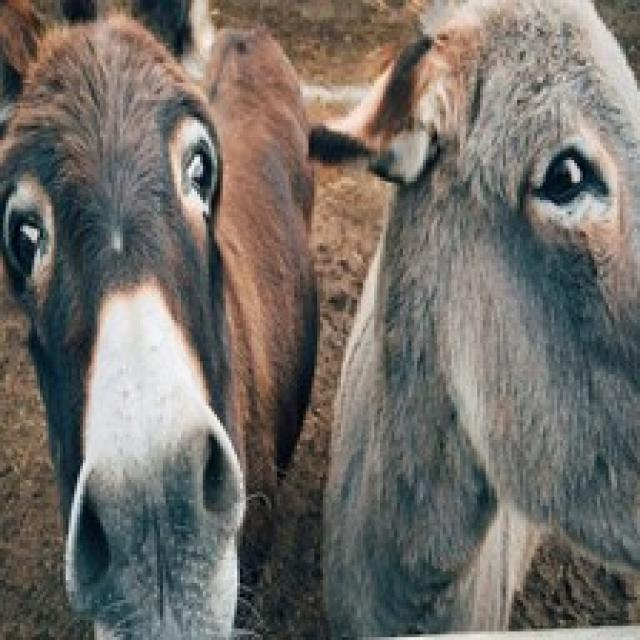Donkey: (306, 0, 638, 637), (0, 0, 320, 637)
